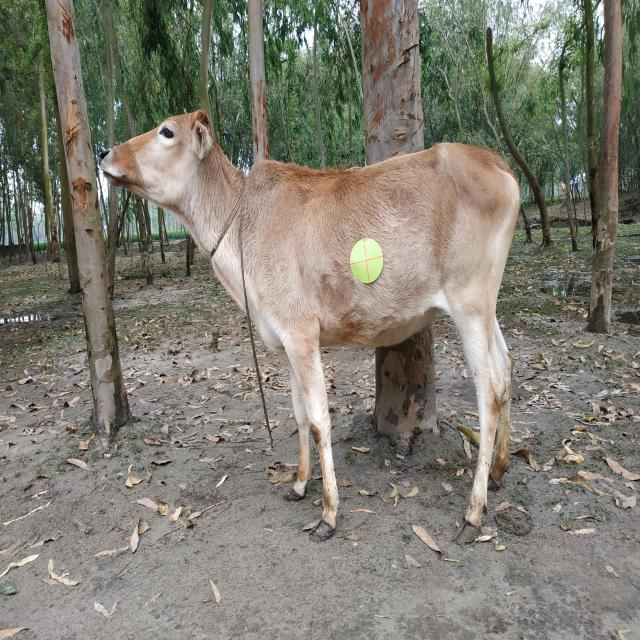badan_sapi: (267, 169, 521, 350)
sapi: (96, 92, 529, 560)
